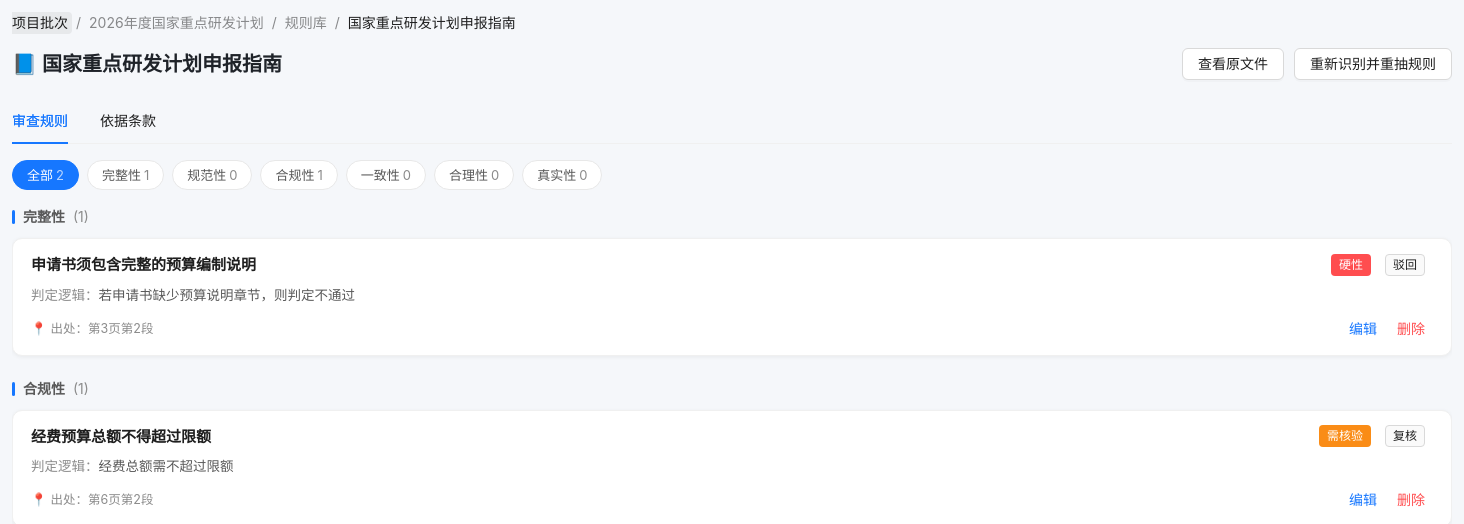
it: 切换到「依据条款」Tab 显示条款卡
expect the text "申请书须包含完整的预算编制说明" is shown: met, box [31,253,256,277]
Step 1. Click the tab "依据条款" → click(128, 121), box [100,110,156,132]
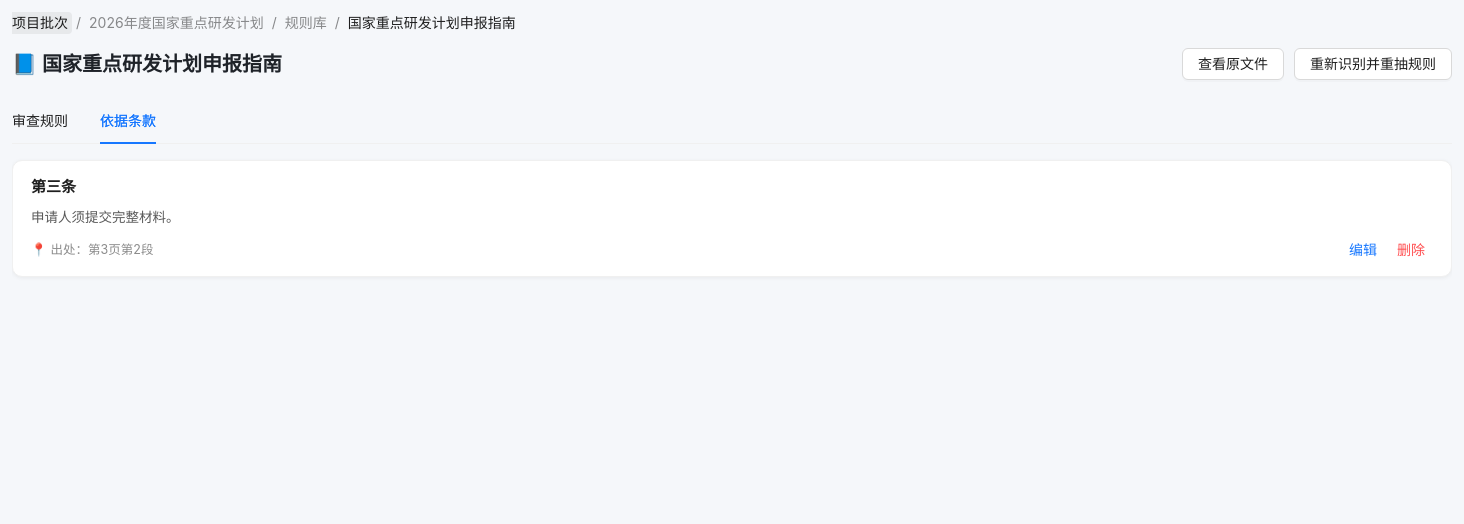
expect the text "第三条" is shown: met, box [31,177,76,196]
expect the text "申请人须提交完整材料。" is shown: met, box [31,209,180,225]
